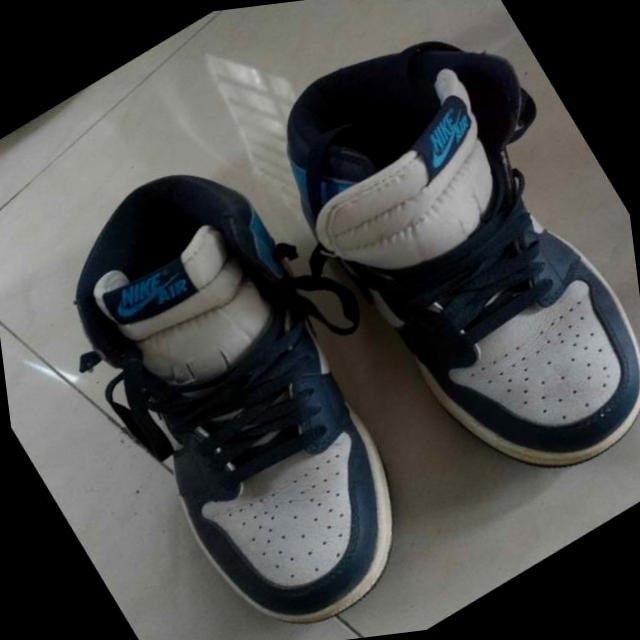nike_fake_jordan: (13, 108, 488, 640), (217, 0, 640, 555)
